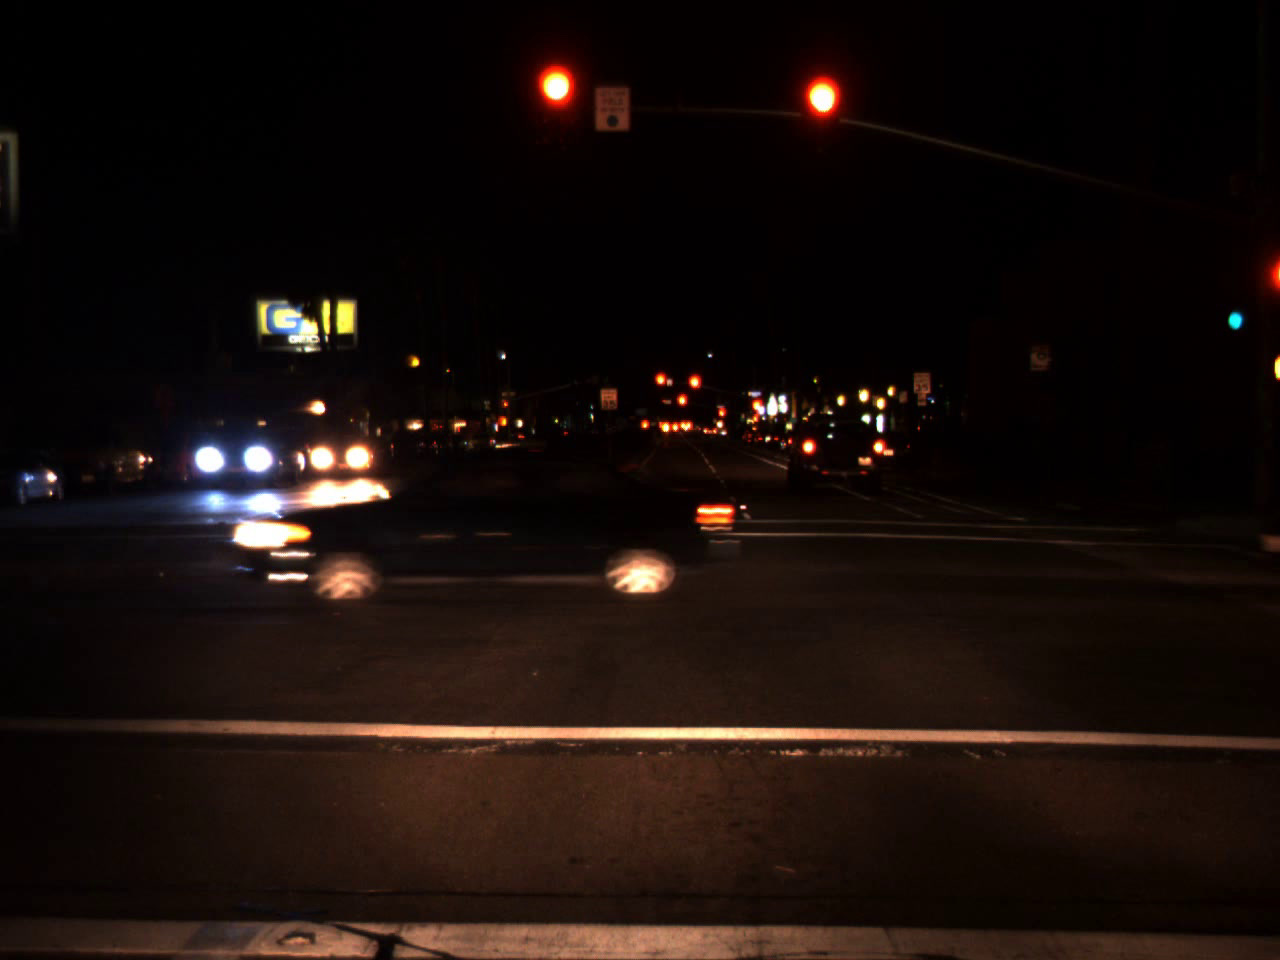stop: (537, 65, 577, 143), (803, 77, 842, 155), (686, 373, 702, 405), (653, 371, 668, 398), (675, 392, 688, 419), (750, 398, 763, 419), (717, 406, 727, 427), (502, 401, 508, 411)
